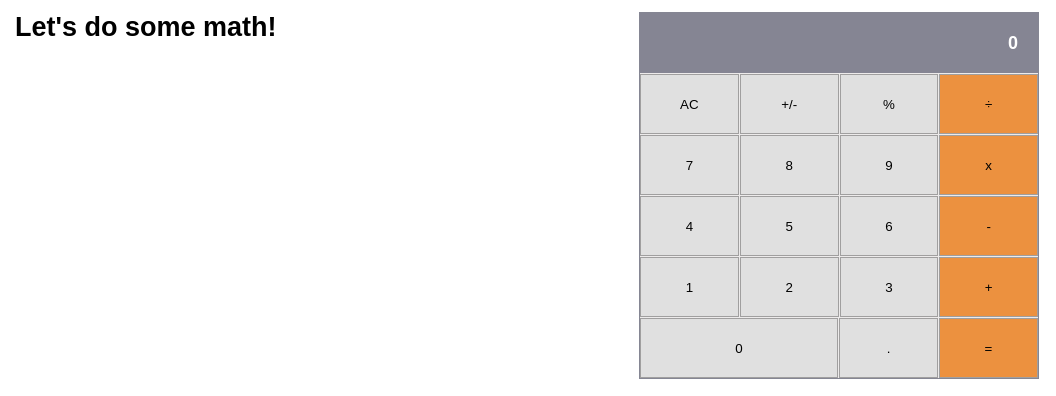
Scenario: handles button click and updates state
Click the button "1" at (689, 287), box [640,257,739,317]
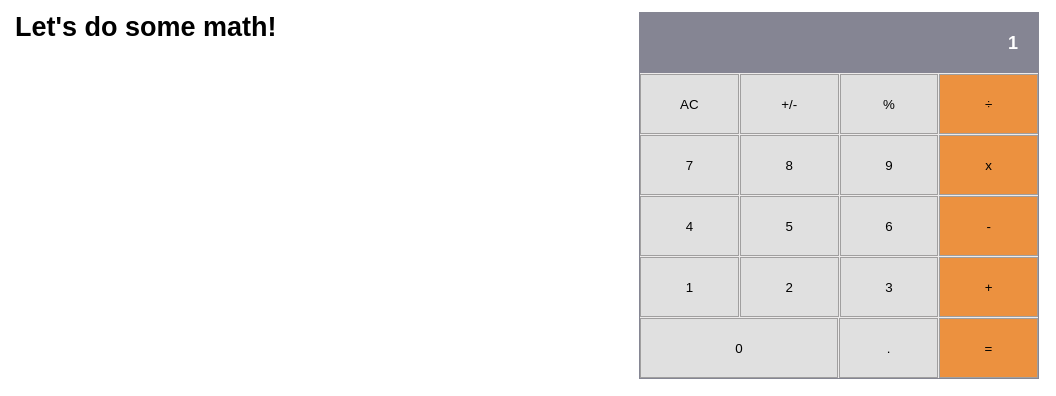
Click the button "2" at (789, 287), box [740,257,839,317]
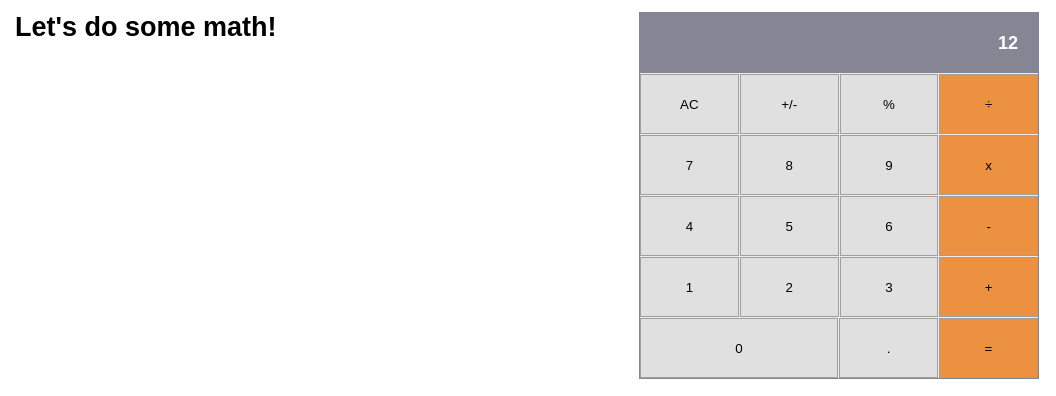
Click the button "+" at (989, 287), box [939,257,1038,317]
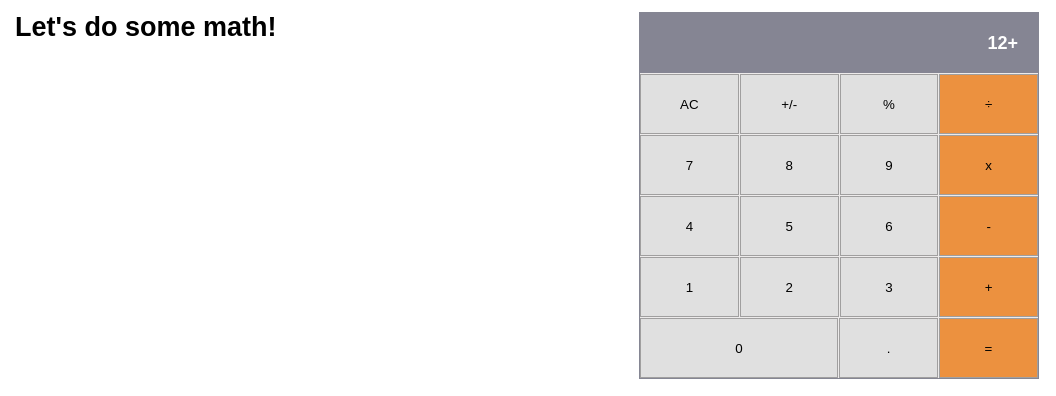
Click the button "3" at (889, 287), box [840,257,938,317]
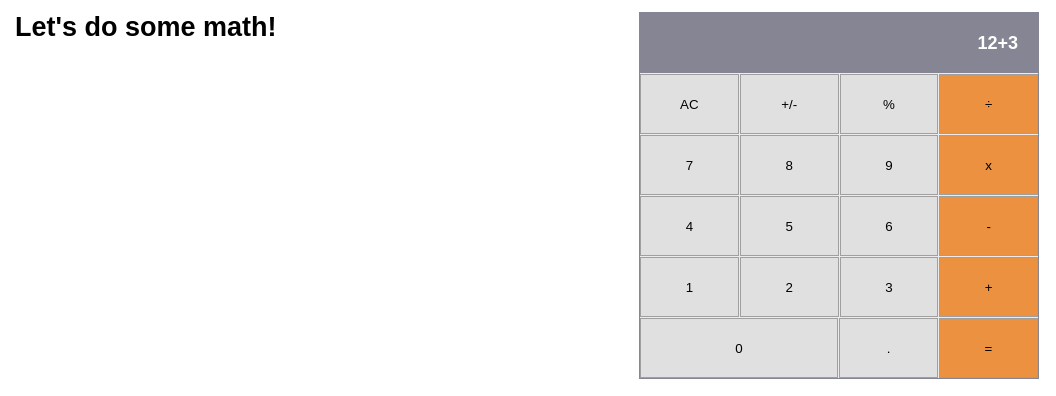
Click the button "=" at (988, 348), box [939,318,1038,378]
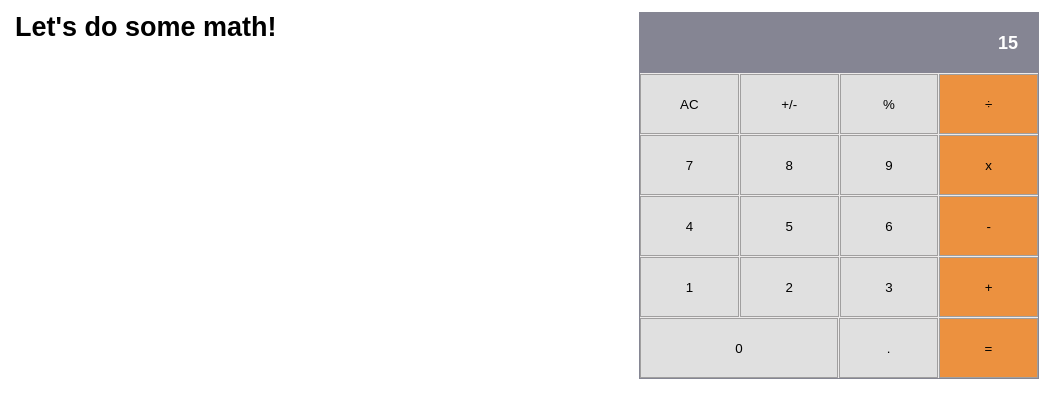
Expected: the text "15" is shown, [640,13,1038,73]
